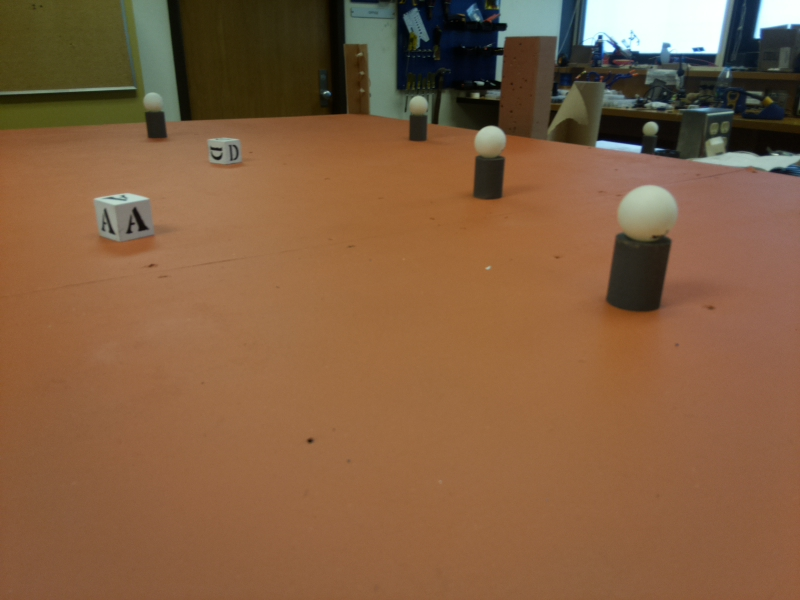blockA: (96, 188, 156, 246)
blockD: (208, 134, 245, 168)
corner: (345, 42, 370, 113)
obstacle: (603, 187, 680, 313), (471, 125, 510, 203), (145, 89, 167, 147), (405, 94, 430, 142)
